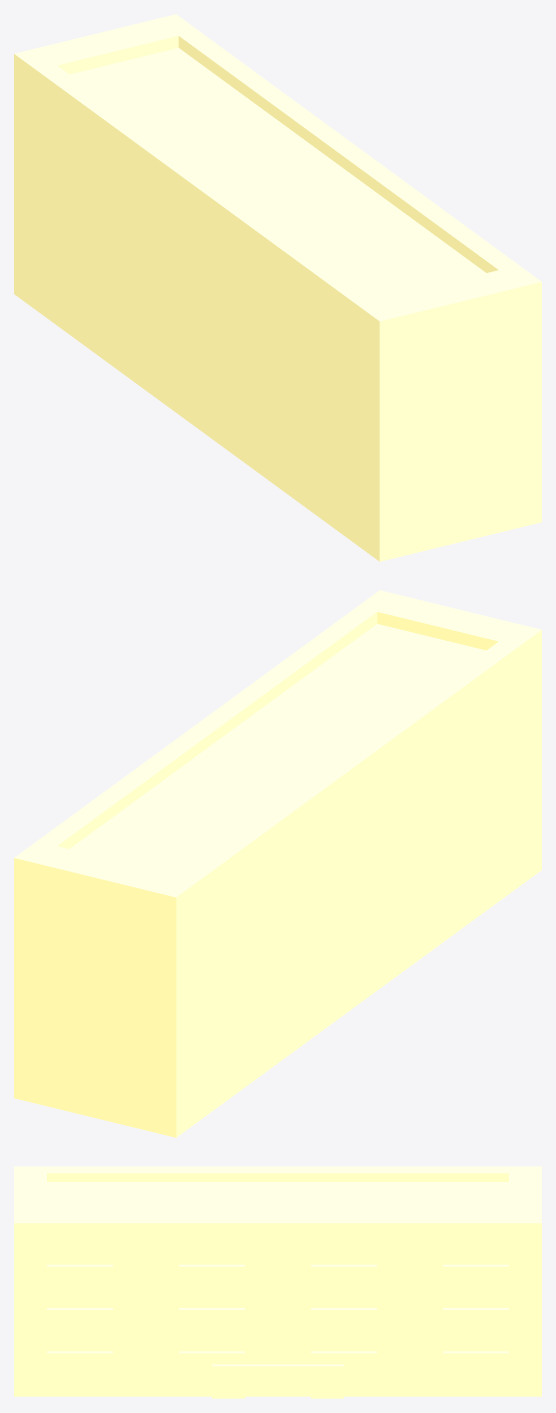
Rendered from building2.fbx.
The picture shows the model from 3 angles, top to bottom: view 1: azimuth 30°, elevation 25°; view 2: azimuth 150°, elevation 25°; view 3: azimuth 270°, elevation 25°; orthographic projection. The views are drawn at different scales.
Parts seen in each view (by area): view 1: building2; view 2: building2; view 3: building2.
Boxes of the visible parts, <box> form: building2: <box>14,14,541,561</box>; building2: <box>14,590,541,1137</box>; building2: <box>14,1166,541,1398</box>.
Size of the model in its own units: 146 by 200 by 552.
